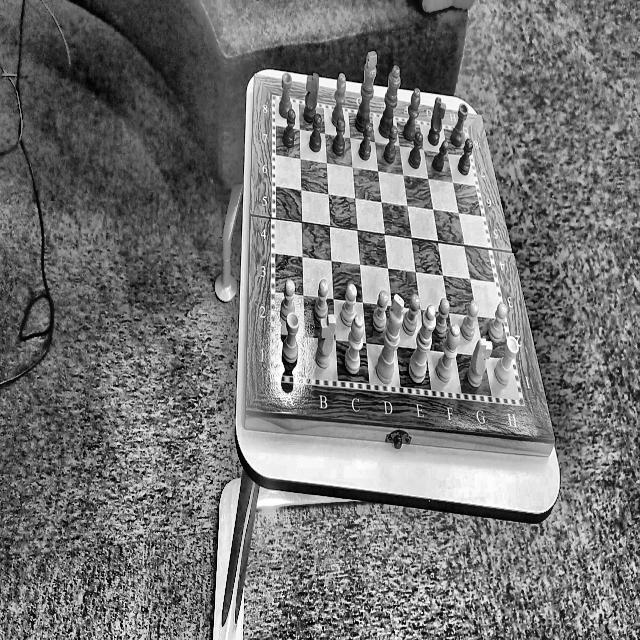chessboard: (275, 101, 519, 398)
